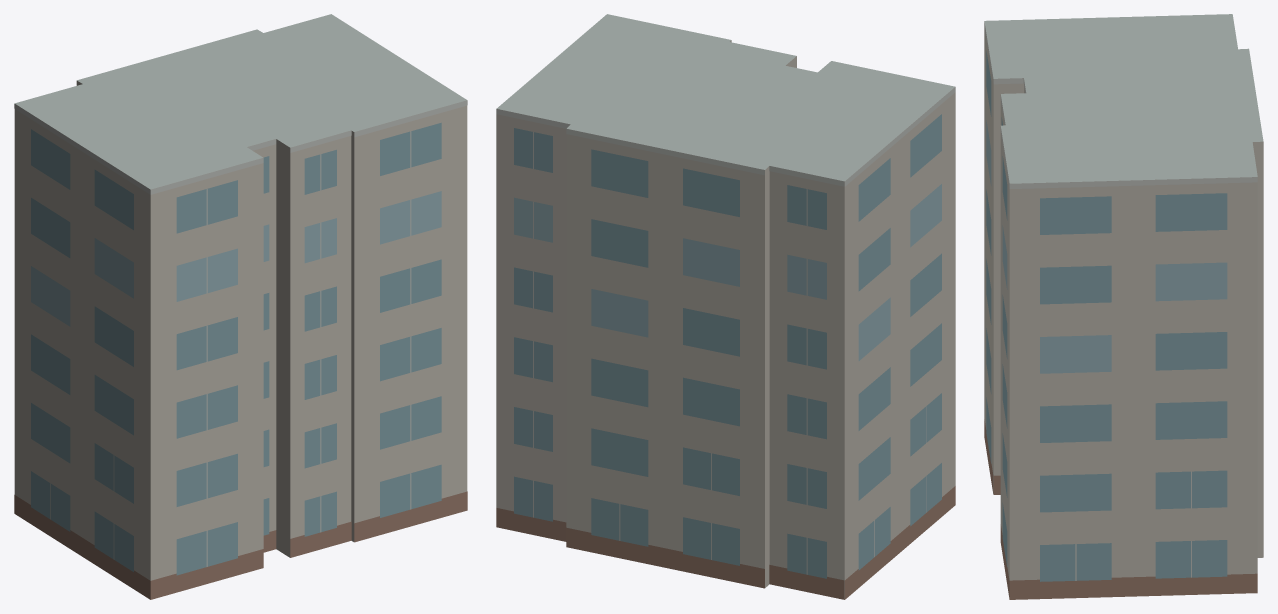
Rendered from survey-upis-32904957.glb.
3 views of the same model, side by side, from view 1: azimuth 30°, elevation 25°; view 2: azimuth 150°, elevation 25°; view 3: azimuth 270°, elevation 25° (orthographic).
Parts seen in each view (by area): view 1: survey-upis-32904957.tmp; view 2: survey-upis-32904957.tmp; view 3: survey-upis-32904957.tmp.
Boxes of the visible parts, left/top/right/bottom form: survey-upis-32904957.tmp: left=14, top=14, right=467, bottom=599; survey-upis-32904957.tmp: left=496, top=14, right=955, bottom=599; survey-upis-32904957.tmp: left=984, top=14, right=1263, bottom=599.
Size of the model in its own units: 16.55 by 18.9 by 11.5.
